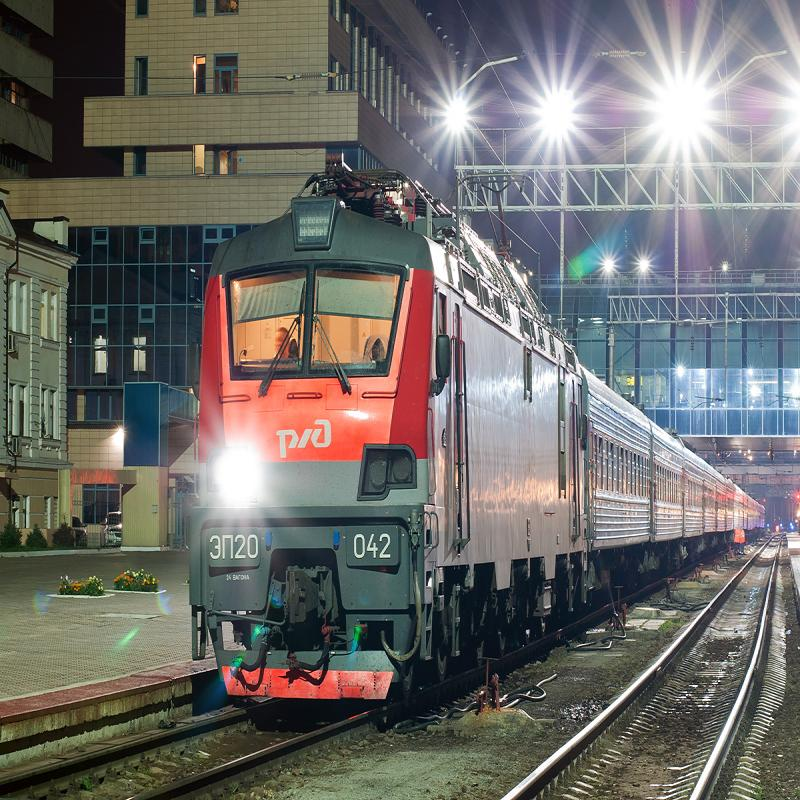train: (186, 141, 588, 725), (571, 356, 659, 640)
